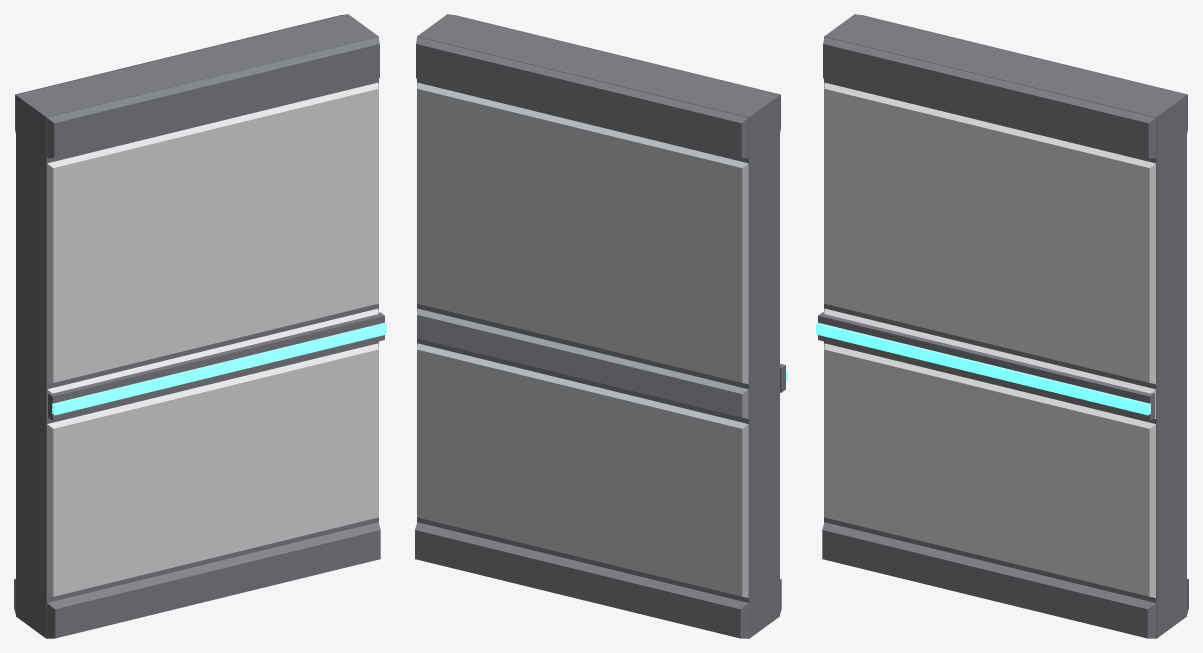
Rendered from SM_Wall_LightStrip.glb.
3 views of the same model, side by side, from view 1: azimuth 30°, elevation 25°; view 2: azimuth 150°, elevation 25°; view 3: azimuth 330°, elevation 25° (orthographic).
Visible parts, largest first — view 1: SM_Wall_LightStrip; view 2: SM_Wall_LightStrip; view 3: SM_Wall_LightStrip.
Boxes of the visible parts, left/top/right/bottom form: SM_Wall_LightStrip: left=14, top=14, right=386, bottom=638; SM_Wall_LightStrip: left=415, top=14, right=787, bottom=638; SM_Wall_LightStrip: left=816, top=14, right=1188, bottom=638.
Bounding box in the file's own units: 2 × 3 × 0.46.
